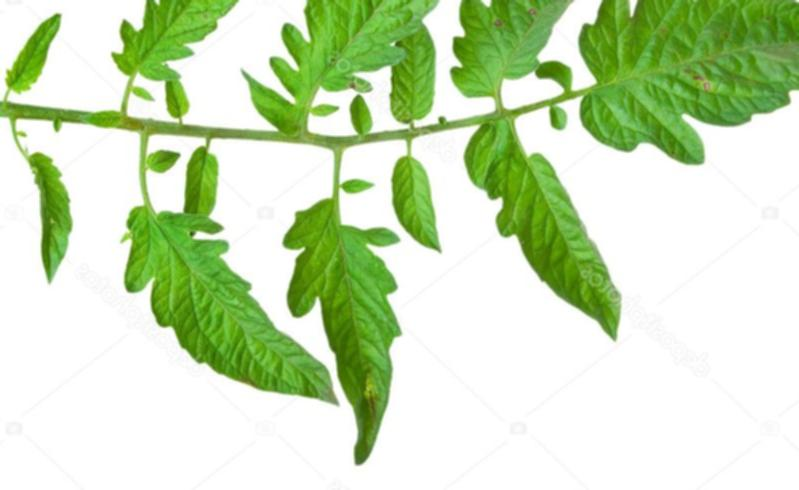Tomato leaf: (125, 188, 333, 409), (569, 0, 799, 171), (483, 128, 639, 341), (251, 0, 478, 132), (295, 189, 395, 478), (111, 0, 311, 108), (441, 0, 616, 115)
